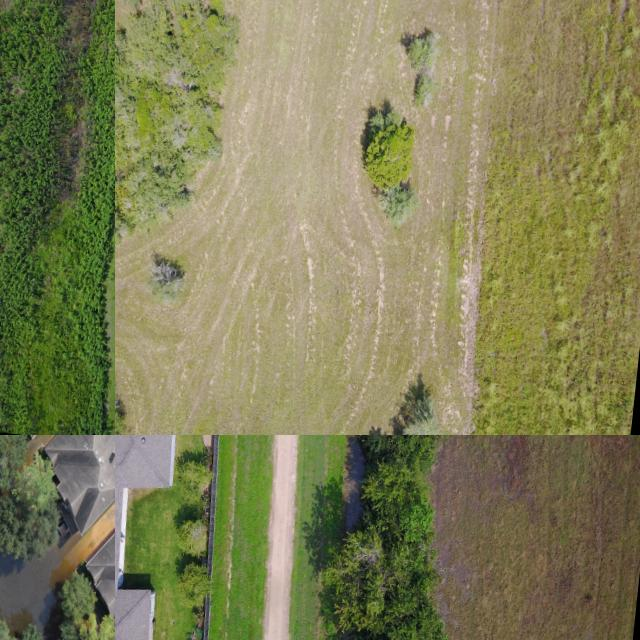fire: (0, 534, 81, 635)
